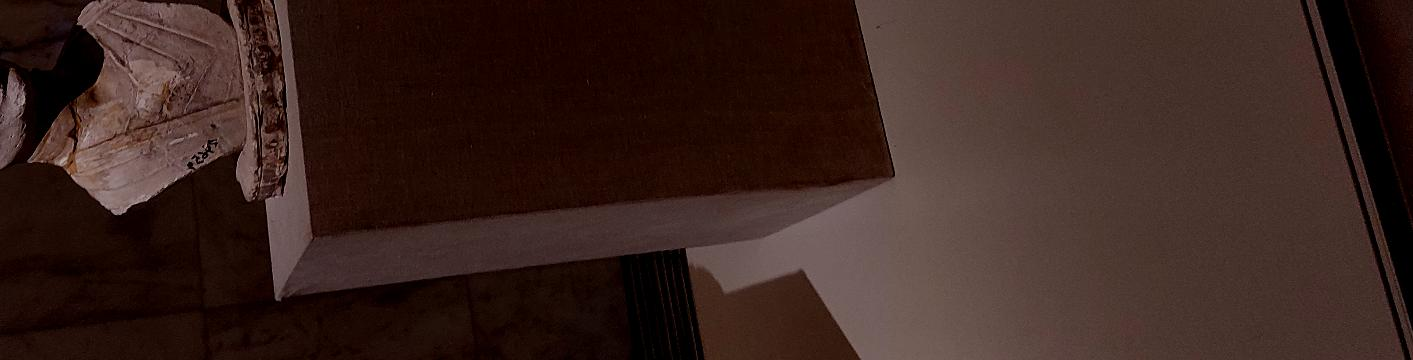Greek_Statues: (0, 0, 157, 179)
